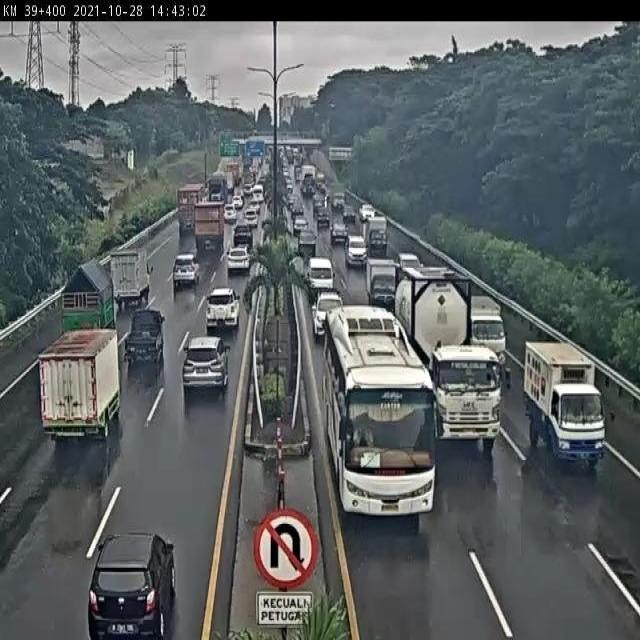Bus: (318, 300, 443, 530)
Car: (86, 533, 174, 640), (182, 335, 230, 397), (312, 290, 345, 343), (205, 287, 241, 333), (172, 254, 200, 289), (226, 245, 252, 275), (345, 236, 367, 267), (233, 223, 254, 250), (393, 253, 425, 270), (298, 228, 317, 256), (331, 222, 348, 244), (223, 202, 238, 225), (243, 208, 259, 228), (316, 209, 331, 230), (359, 204, 375, 223), (293, 216, 308, 236), (289, 201, 305, 218), (342, 205, 356, 222), (232, 196, 244, 209)
Truck: (393, 266, 512, 456), (521, 338, 616, 468), (37, 329, 122, 442), (59, 257, 117, 332), (466, 292, 508, 371), (110, 249, 153, 308), (124, 308, 166, 368), (365, 258, 400, 308), (192, 199, 226, 250), (177, 182, 208, 235), (364, 215, 391, 256), (330, 182, 349, 211), (301, 164, 316, 196), (226, 161, 242, 183), (223, 172, 235, 196)
Van: (307, 257, 333, 295)
